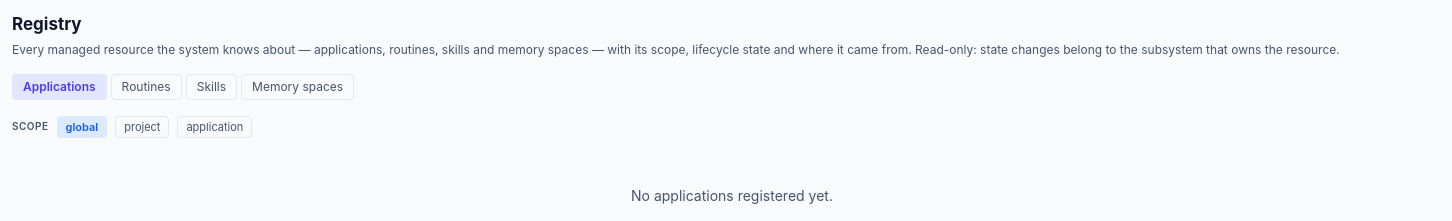
resourceSettings › still reads a 500 on the gated kind as a failure
Click the button with test id "resource-kind-memory_space" at (298, 86), box x1=241 y1=74 x2=354 y2=100
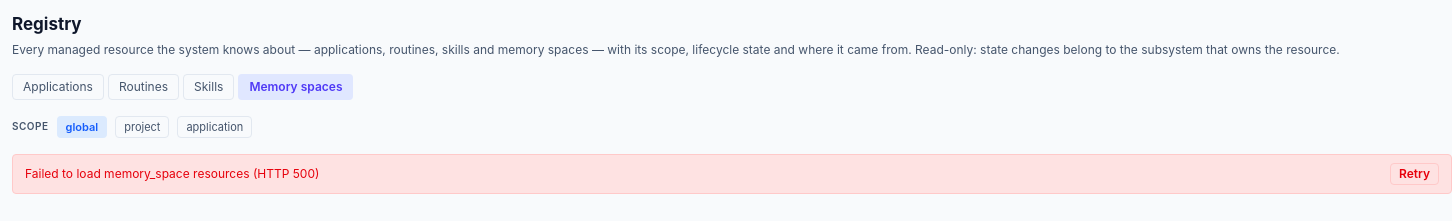
expect the message with test id "resource-error" shows "HTTP 500": met, box x1=25 y1=166 x2=319 y2=181
